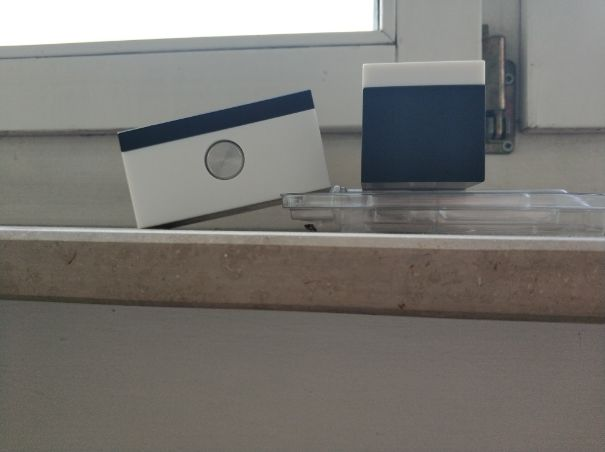black+white+silver: (113, 85, 335, 229)
